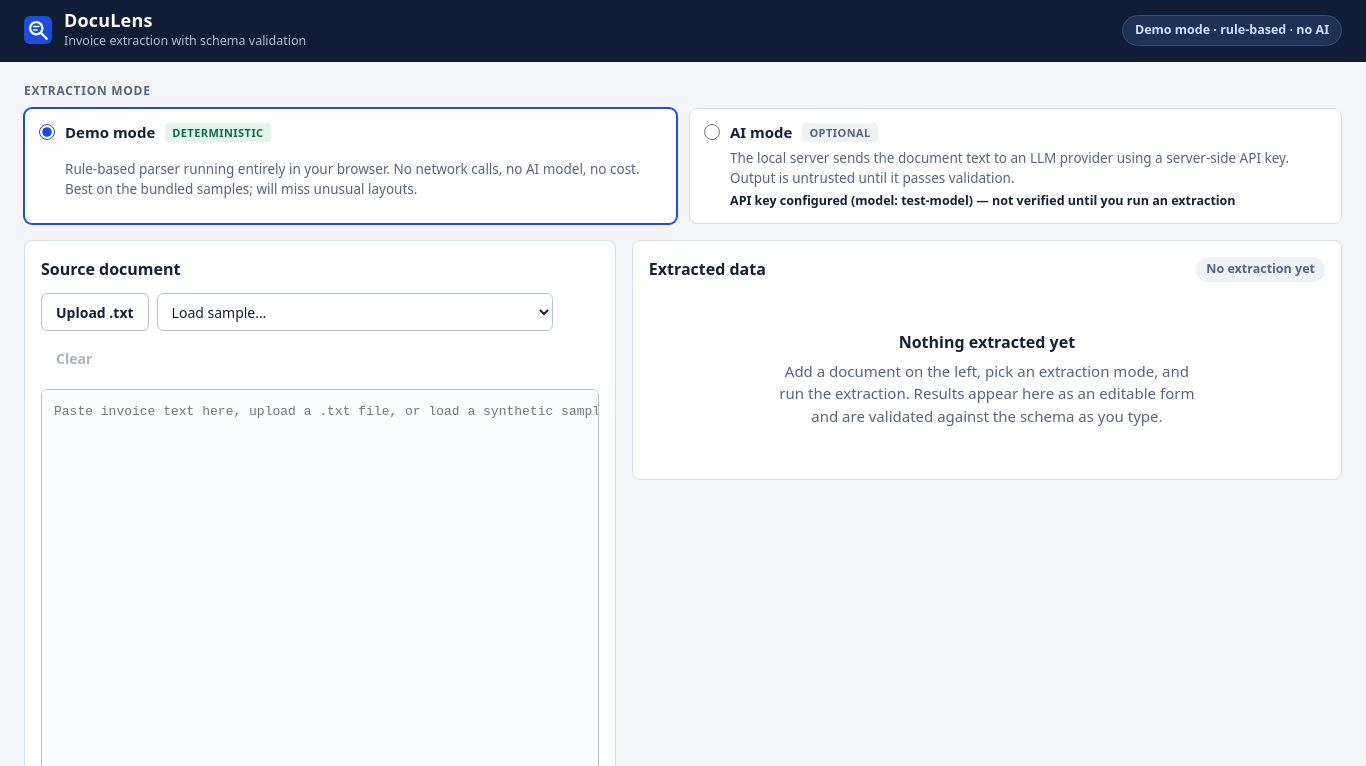
Test case: App — AI mode (mocked server) › surfaces malformed model output as issues instead of trusting it
Click the radio button labelled "AI mode". click: (712, 132)
box: [704,124,720,140]
(page scrolled)
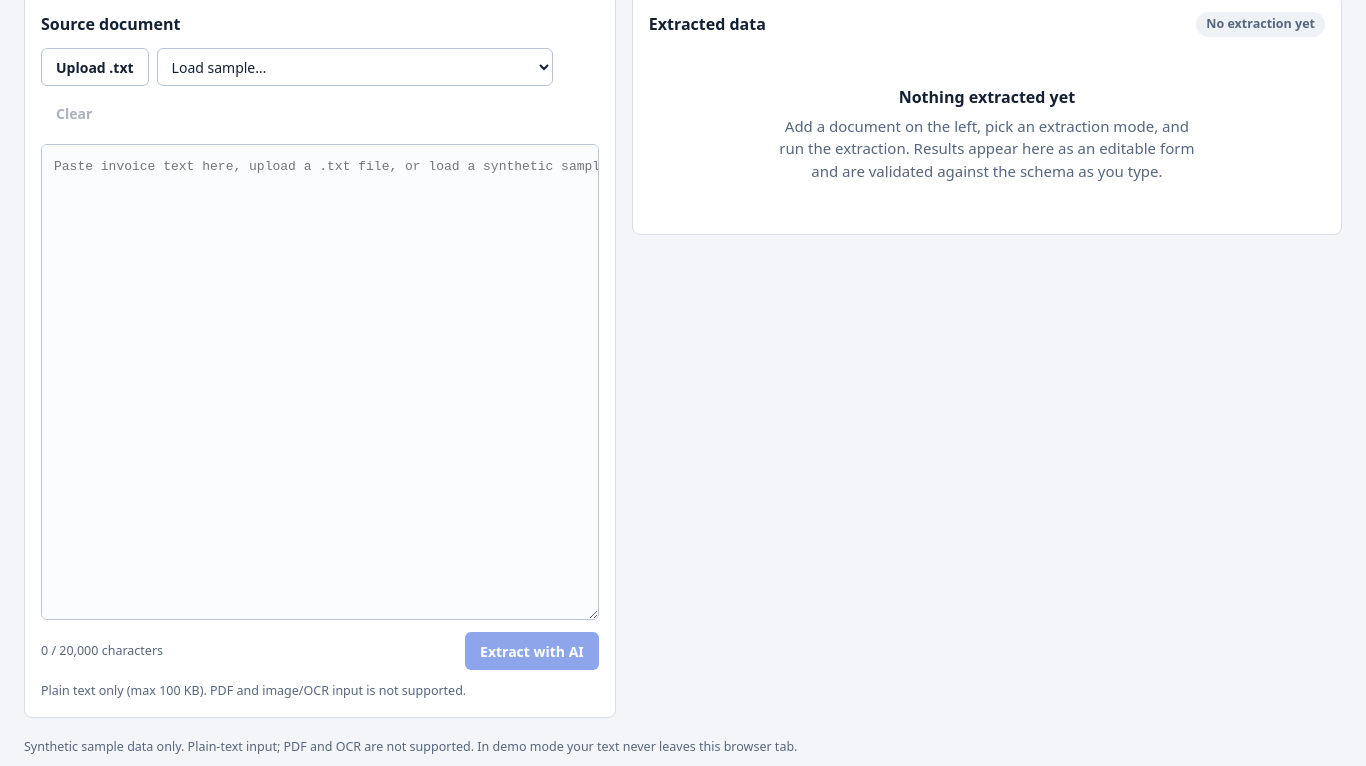
Replace the text in the text box named "document text" with "Invoice Number: M-1". click: (320, 382)
box: [41,144,599,620]
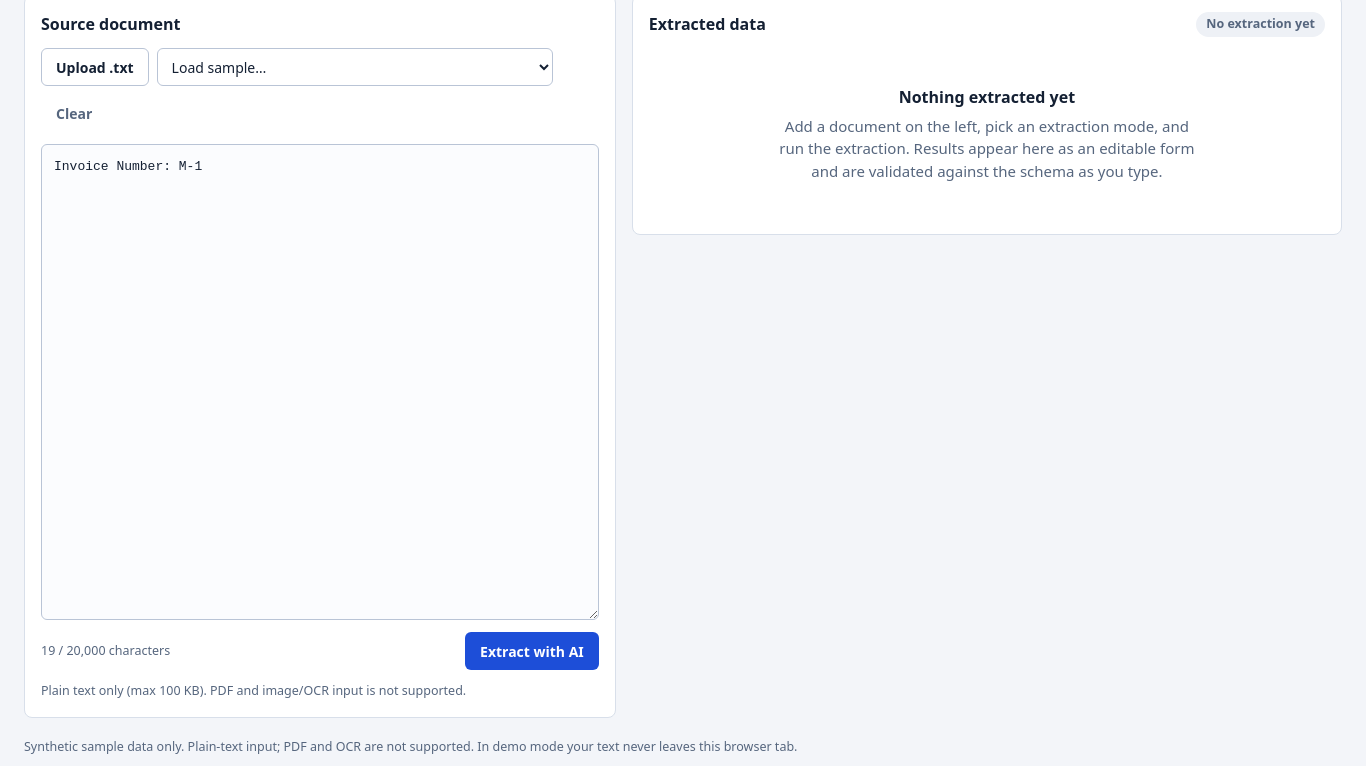
Click the button "Extract with AI". click: (532, 651)
box: [465,632,599,670]
(page scrolled)
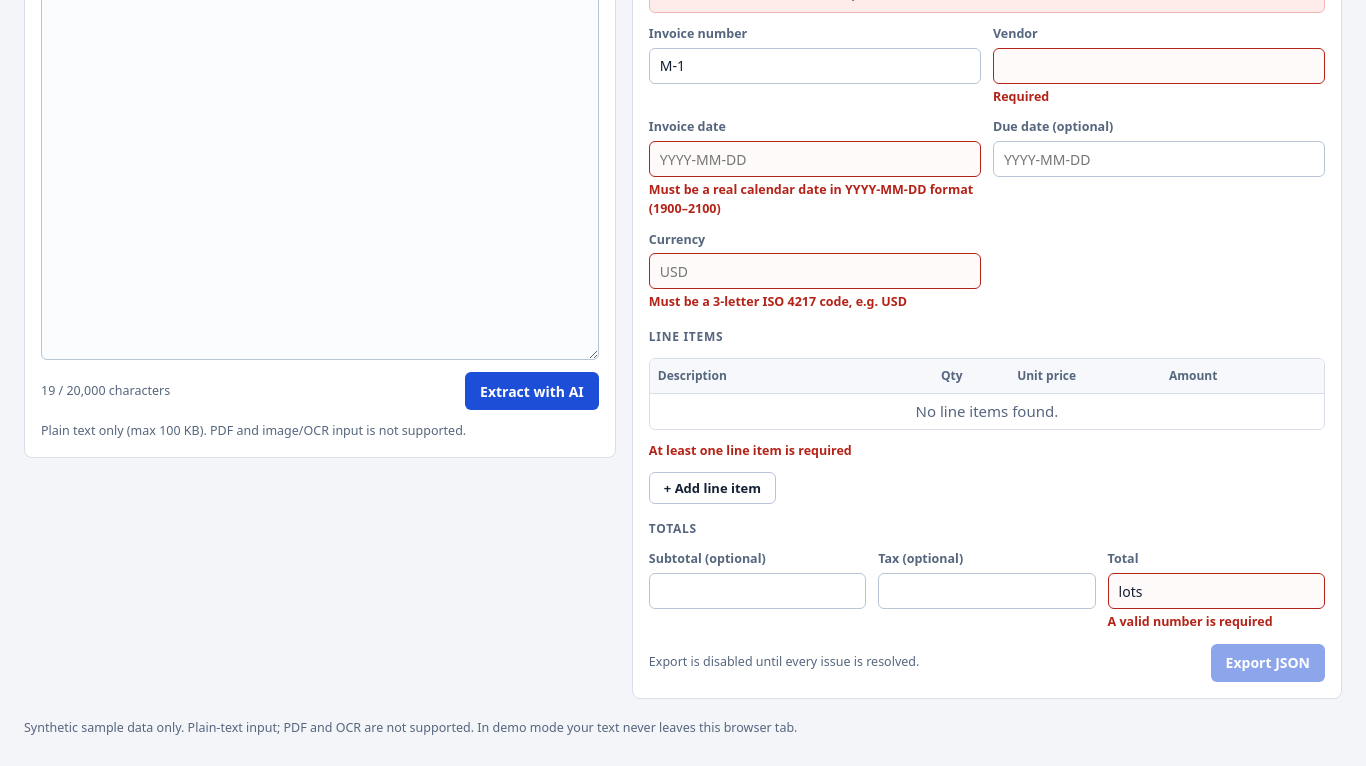
Check: the button "Export JSON" is disabled, box [1211,644,1325,682]
